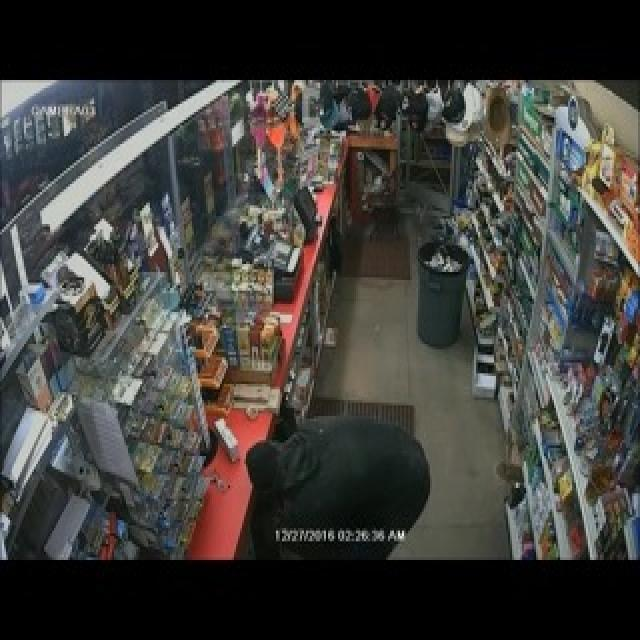thief: (238, 417, 435, 562)
